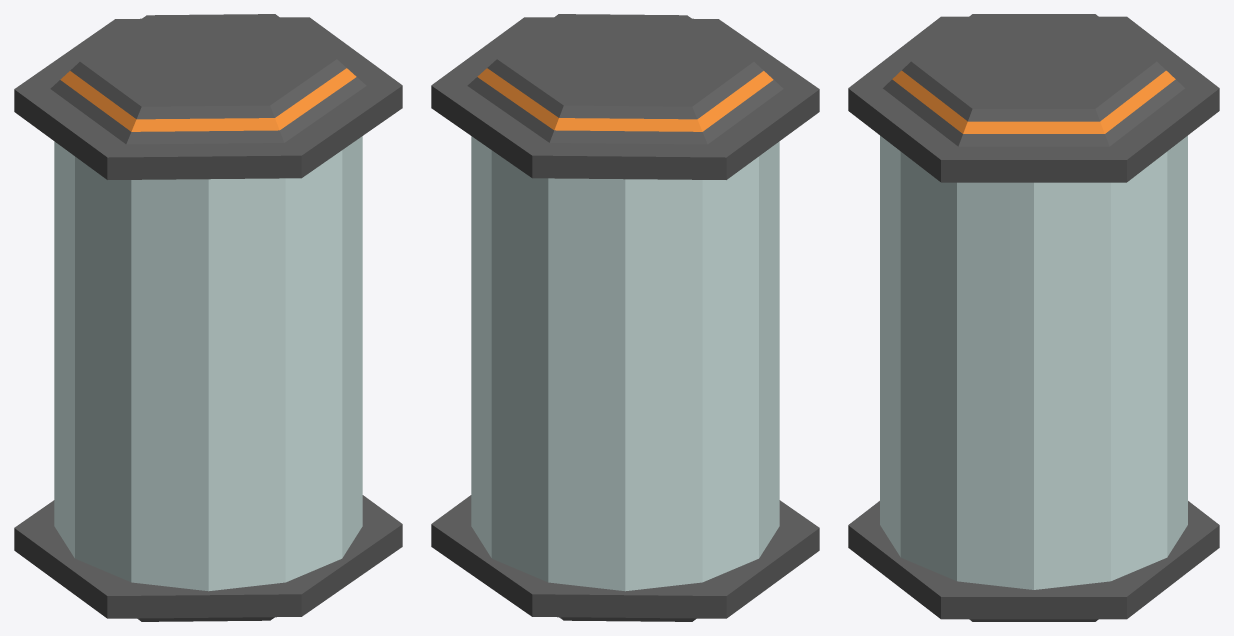
The model's file is model-collectable-health-tank-ultimate.fbx.
The picture shows the model from 3 angles, left to right: view 1: azimuth 30°, elevation 25°; view 2: azimuth 150°, elevation 25°; view 3: azimuth 270°, elevation 25°; orthographic projection.
Visible parts, largest first — view 1: mesh; view 2: mesh; view 3: mesh.
Boxes of the visible parts, left/top/right/bottom form: mesh: left=14, top=14, right=402, bottom=621; mesh: left=431, top=14, right=819, bottom=621; mesh: left=848, top=14, right=1219, bottom=621.
Bounding box in the file's own units: 0.5993 × 0.6558 × 0.9991.
